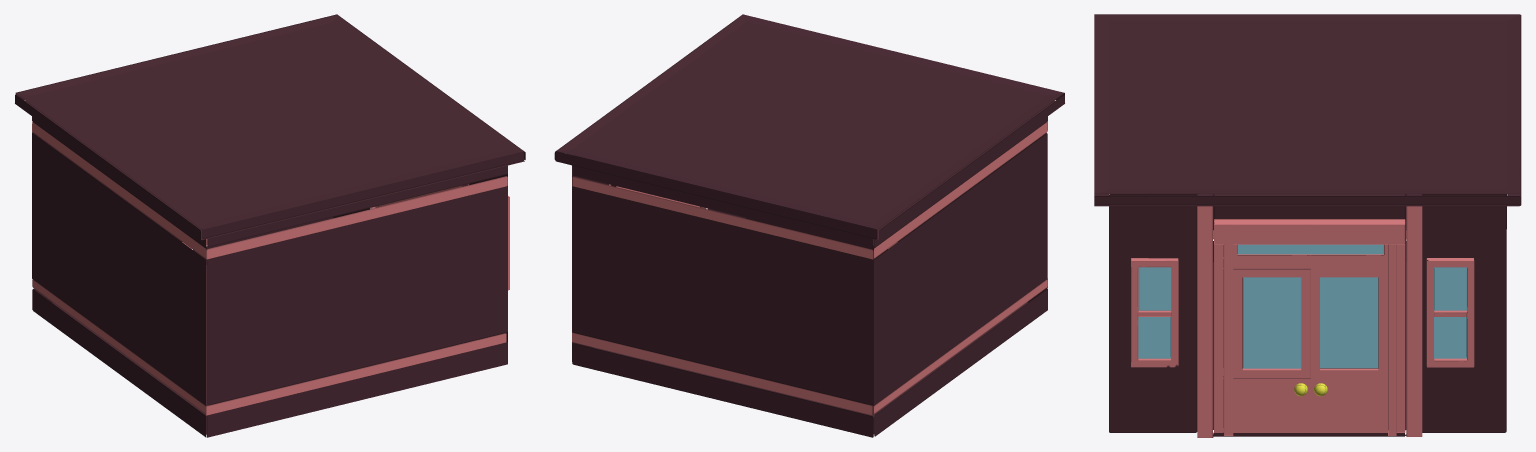
The model's file is Big window building ENTRANCE 1.fbx.
3 renders of one model, left to right at view 1: azimuth 30°, elevation 25°; view 2: azimuth 150°, elevation 25°; view 3: azimuth 270°, elevation 25°, orthographic. The views are drawn at different scales.
Visible parts, largest first — view 1: main building, wood parts; view 2: main building, wood parts; view 3: main building, woodpart of door, windows of door, wood parts, glass part of windows, wood part of windows.
Part boxes in pixels (x1,y1,x2,y2): main building: [15, 14, 525, 437]; wood parts: [32, 122, 507, 415]; main building: [554, 14, 1064, 437]; wood parts: [572, 122, 1047, 415]; main building: [1094, 14, 1521, 437]; woodpart of door: [1214, 219, 1405, 435]; windows of door: [1237, 244, 1383, 368]; wood parts: [1197, 206, 1422, 437]; glass part of windows: [1138, 267, 1466, 358]; wood part of windows: [1131, 258, 1474, 367].
Bounding box in the file's own units: 1417 × 893 × 1406.
Materials: 7 (7 with a texture image).
